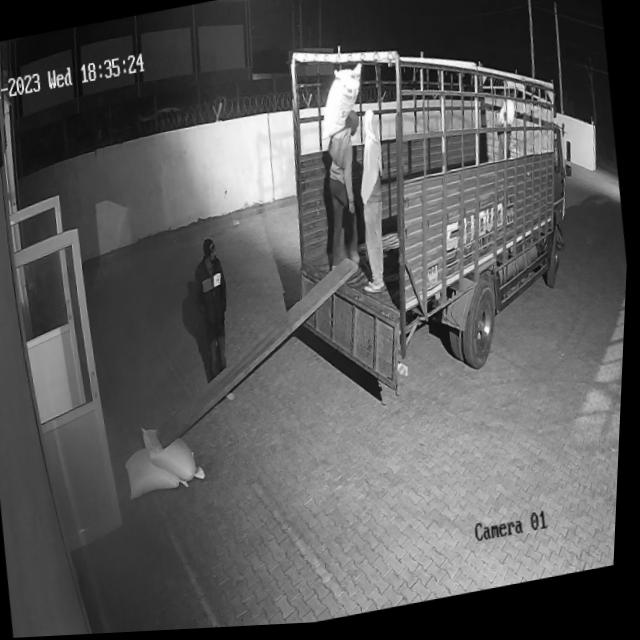sack: (312, 67, 374, 158), (142, 416, 213, 491), (126, 441, 195, 501)
